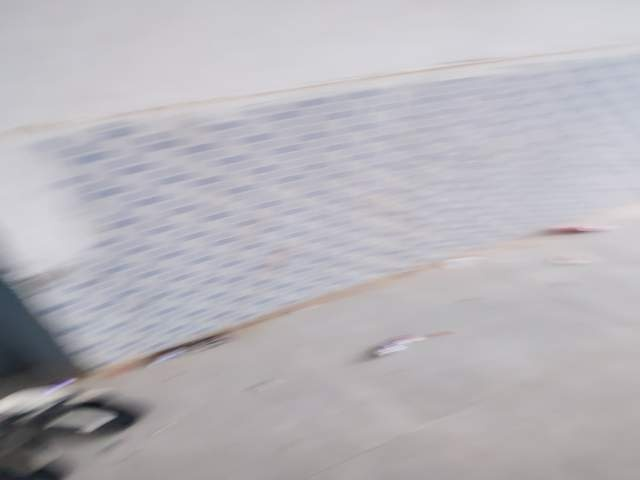pothole: (109, 378, 327, 480)
